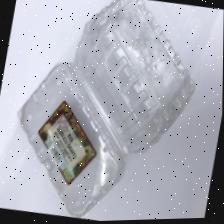plastic: (0, 0, 211, 224)
